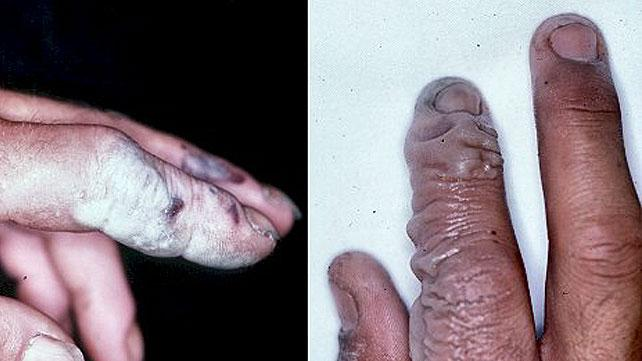burned-skin: (404, 81, 507, 361), (70, 140, 256, 272)
